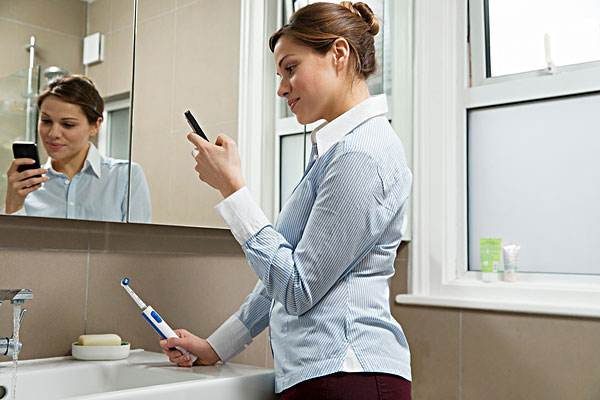reading: (181, 106, 244, 194)
